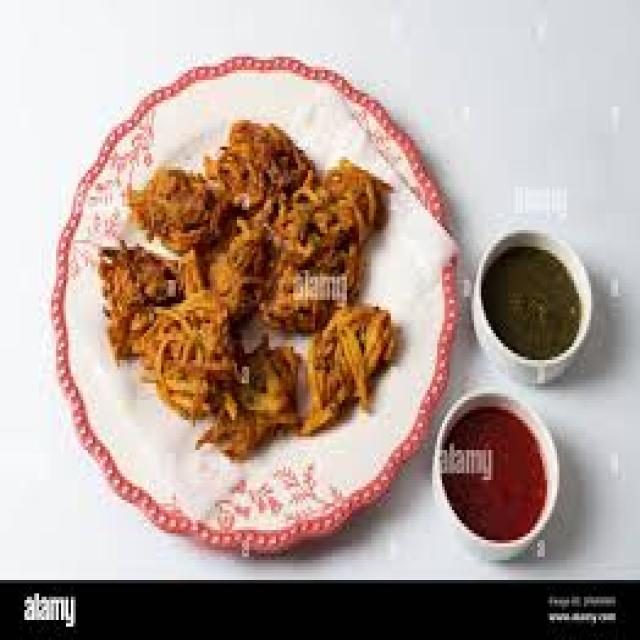BAJI: (84, 115, 391, 455)
